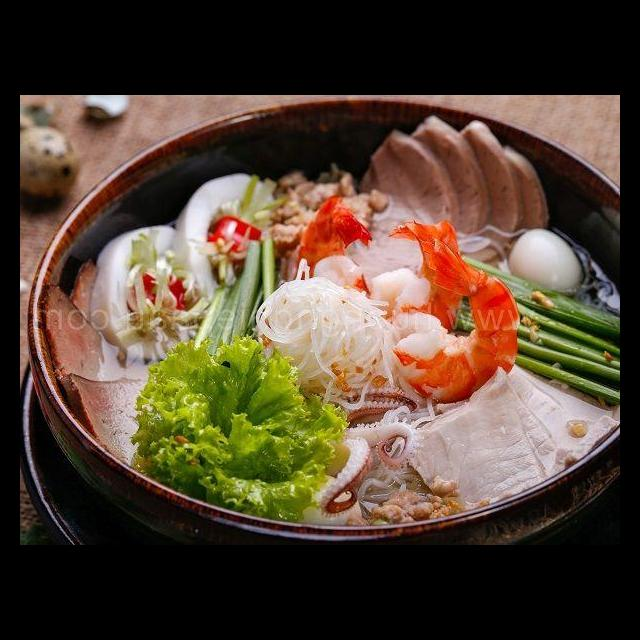hu tieu: (243, 254, 402, 412), (353, 391, 449, 517)
muc: (282, 375, 430, 521), (80, 220, 217, 367), (168, 162, 279, 325)
thit bam: (268, 163, 391, 257)
thit heo: (403, 372, 553, 517), (433, 363, 567, 491), (501, 357, 620, 476)
tom: (384, 234, 522, 409), (367, 215, 469, 344), (292, 194, 381, 312)
trung: (502, 224, 586, 298)
